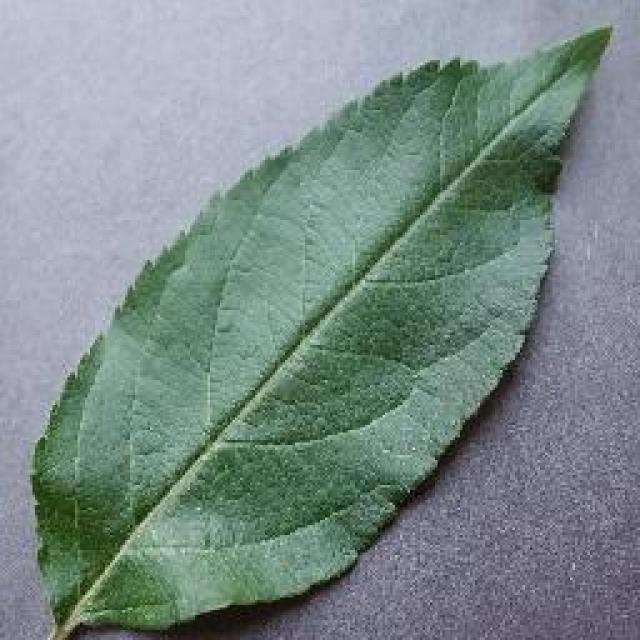apple healthy: (23, 20, 615, 638)
